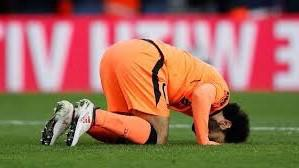sujud: (40, 38, 251, 147)
